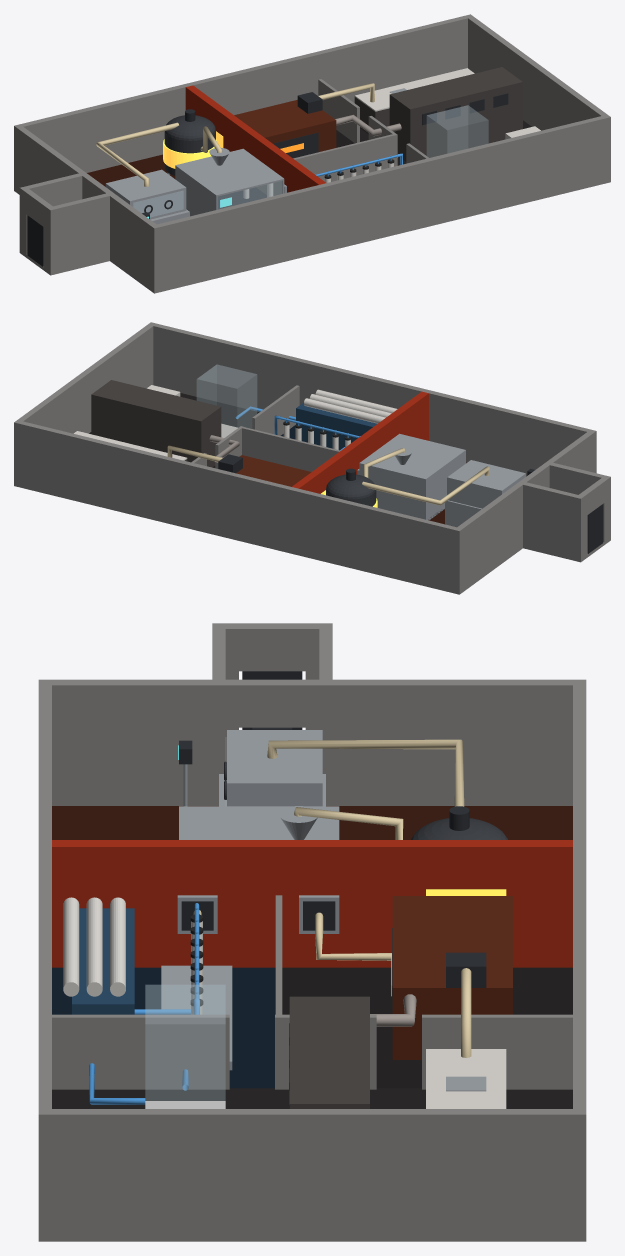
Rendered from habitat.glb.
The picture shows the model from 3 angles, top to bottom: view 1: azimuth 30°, elevation 25°; view 2: azimuth 150°, elevation 25°; view 3: azimuth 270°, elevation 25°; orthographic projection. The views are drawn at different scales.
Parts seen in each view (by area): view 1: shell-south, shell-north, life-support, shell-east, airlock-south, bulkhead, retort, shell-west-south, fill-roof, hygiene, glovebox-chamber, partition-wet (+21 smaller); view 2: shell-north, shell-south, life-support, shell-east, shell-west-north, airlock-north, bulkhead, hygiene, fill-roof, partition-wet, glovebox-chamber, fill-back (+18 smaller); view 3: shell-east, bulkhead, shell-west-north, shell-west-south, retort, partition-crew-3, hygiene, floor-dirty, life-support, floor-service, partition-crew-1, shell-north (+24 smaller).
Part boxes in pixels (bbox=[...]): shell-south: bbox=[151, 114, 610, 290]; shell-north: bbox=[14, 14, 473, 189]; life-support: bbox=[389, 67, 522, 161]; shell-east: bbox=[468, 17, 606, 130]; airlock-south: bbox=[47, 193, 109, 272]; bulkhead: bbox=[185, 85, 325, 192]; retort: bbox=[234, 100, 336, 151]; shell-west-south: bbox=[103, 189, 156, 287]; fill-roof: bbox=[175, 148, 284, 196]; hygiene: bbox=[427, 105, 488, 157]; glovebox-chamber: bbox=[105, 169, 186, 219]; partition-wet: bbox=[293, 134, 394, 181]; shell-north: bbox=[14, 420, 462, 591]; shell-south: bbox=[148, 322, 596, 476]; life-support: bbox=[91, 380, 221, 467]; shell-east: bbox=[18, 324, 153, 433]; shell-west-north: bbox=[457, 478, 529, 588]; airlock-north: bbox=[523, 482, 584, 559]; bulkhead: bbox=[292, 391, 428, 493]; hygiene: bbox=[197, 364, 256, 437]; fill-roof: bbox=[359, 433, 465, 480]; partition-wet: bbox=[242, 427, 340, 471]; glovebox-chamber: bbox=[447, 460, 525, 508]; fill-back: bbox=[360, 465, 426, 519]; shell-east: bbox=[52, 1109, 572, 1235]; bulkhead: bbox=[52, 840, 572, 967]; shell-west-north: bbox=[305, 679, 572, 805]; shell-west-south: bbox=[52, 679, 238, 805]; retort: bbox=[392, 896, 512, 1059]; partition-crew-3: bbox=[52, 1014, 229, 1089]; hygiene: bbox=[145, 985, 225, 1108]; floor-dirty: bbox=[52, 806, 572, 839]; life-support: bbox=[289, 996, 369, 1108]; floor-service: bbox=[282, 967, 572, 1088]; partition-crew-1: bbox=[422, 1014, 572, 1089]; shell-north: bbox=[573, 679, 586, 1235].
Size of the model in its own units: 17.4 by 2.2 by 8.2.
